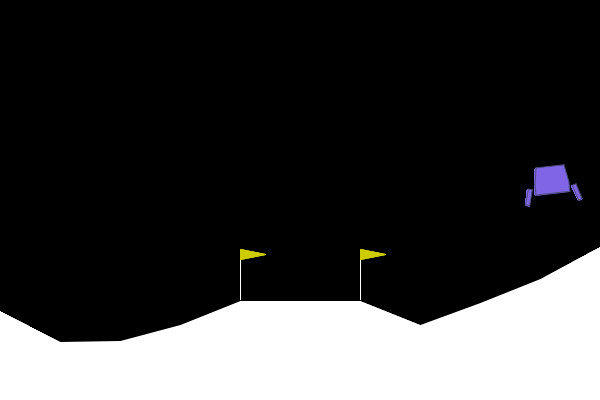lander: (519, 161, 583, 208)
